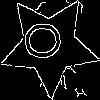O: (24, 20, 70, 61)
